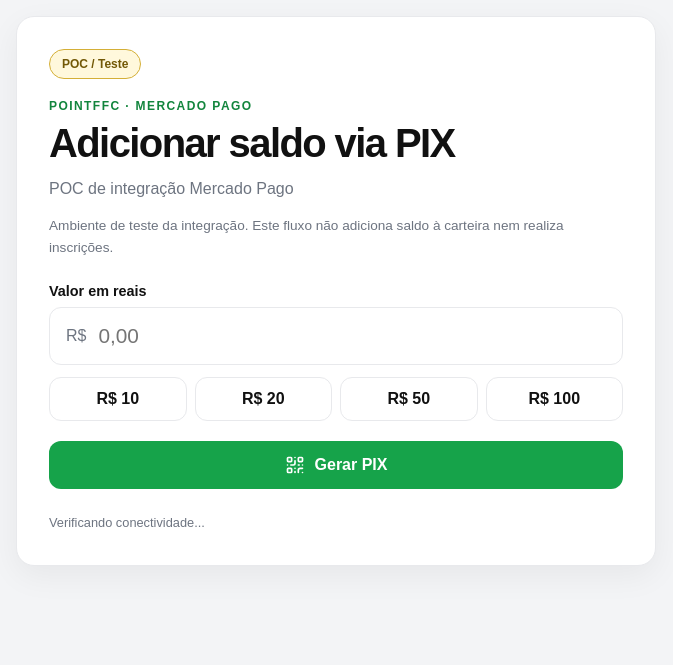
Test: não inicia polling se criação retornar APROVADO
Click the button "R$ 10" at (118, 399), box [49,377,186,421]
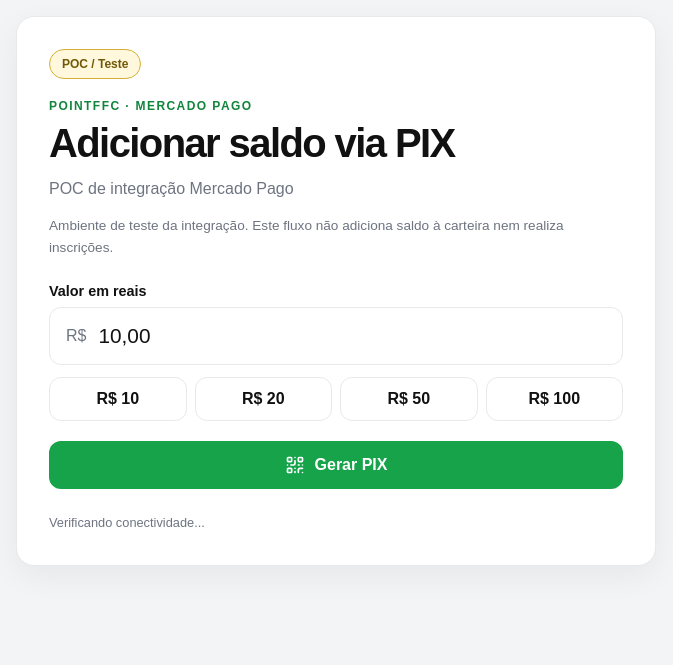
Click the button "Gerar PIX" at (336, 465), box [49,441,623,489]
Wait 10000 ms
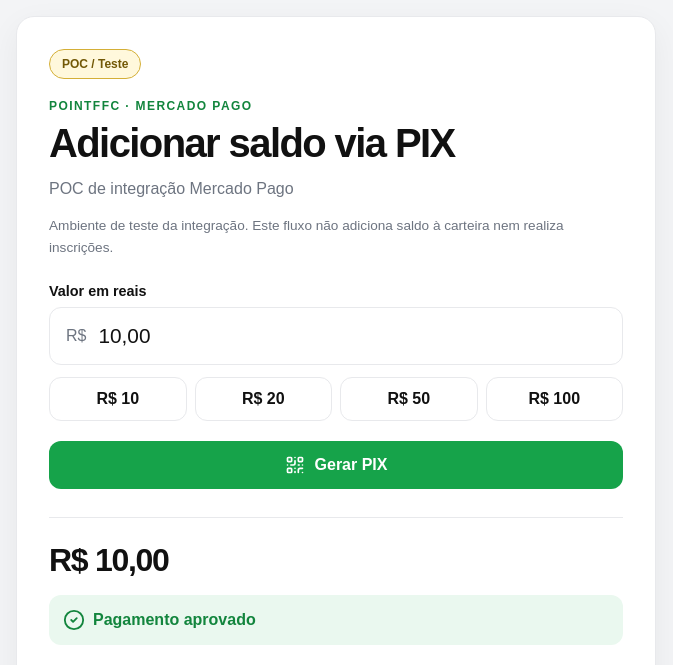
Expected: the text "Pagamento aprovado" is shown, [49,595,623,645]
